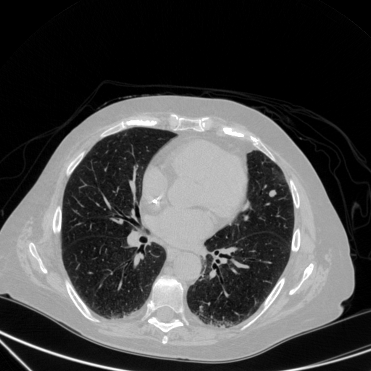nodule: (268, 189, 276, 197)
